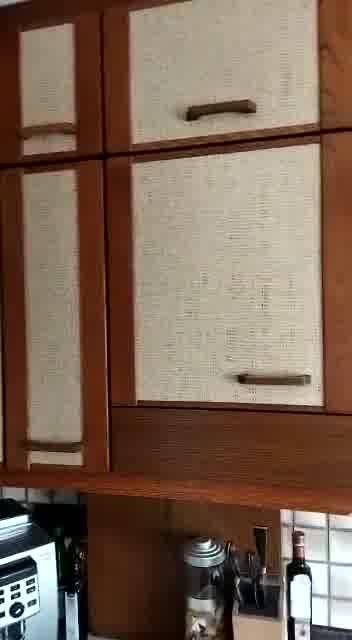cabinet_door: (105, 145, 352, 412), (103, 1, 352, 139), (0, 160, 108, 470), (3, 3, 102, 158)
handle: (180, 94, 258, 126), (233, 363, 315, 390), (14, 117, 78, 144), (20, 434, 90, 457)
